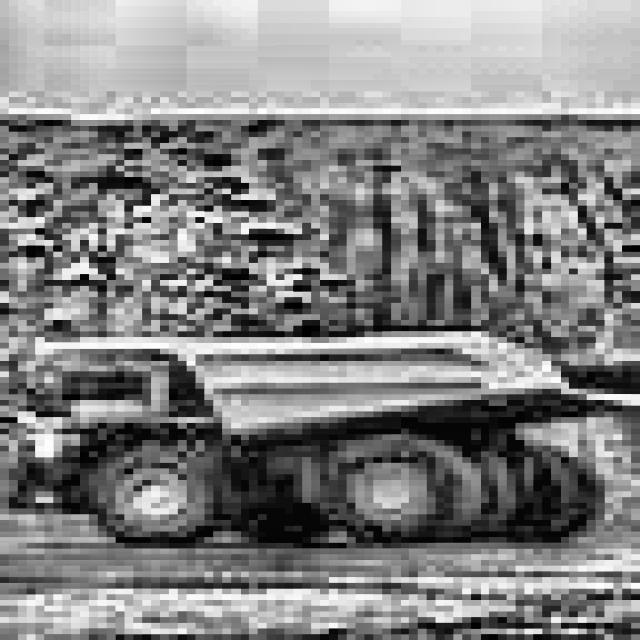dump_truck: (0, 297, 640, 572)
